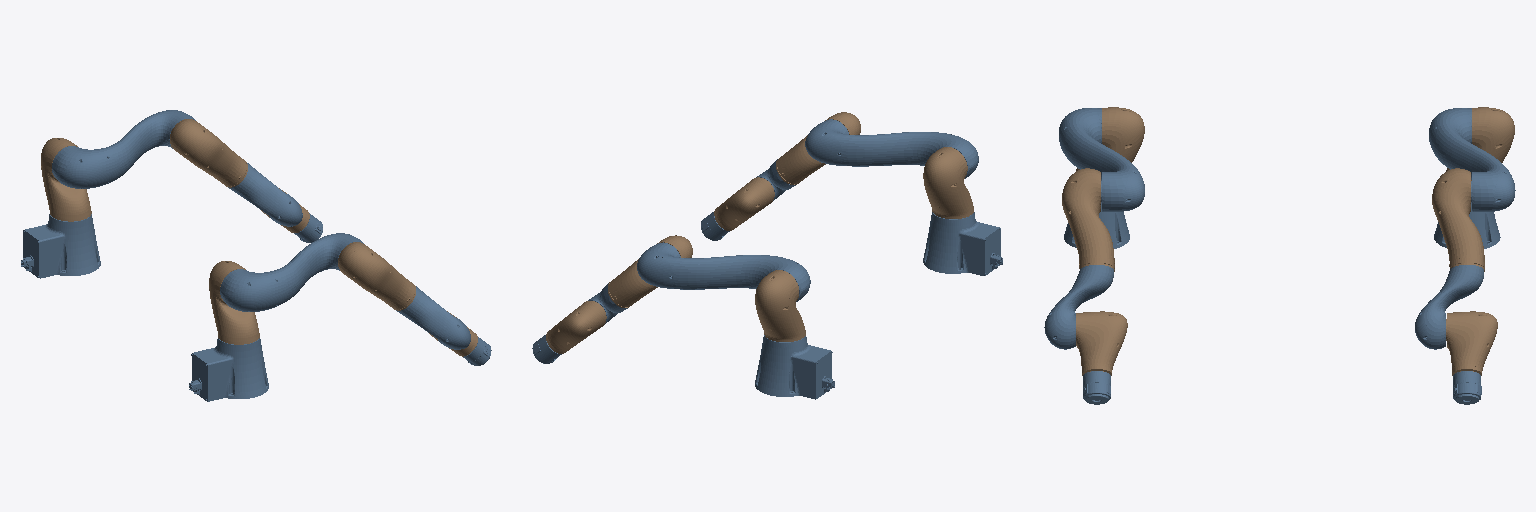
URDF robot description (hsr_co605):
<robot
  name="hsr_co605">

  <link name="world"/>
  <joint name="fixed" type="fixed">
    <parent link="world"/>
    <child link="base_link"/>
	<origin
      xyz="0 0 1"
      rpy="0 0 0" />
  </joint> 

  <joint name="fixed2" type="fixed">
    <parent link="world"/>
    <child link="base_link2"/>
	<origin
      xyz="0 1 1"
      rpy="0 0 0" />
  </joint> 



  <link
    name="base_link">
    <inertial>
      <origin
        xyz="-0.021912 3.5206E-07 0.072666"
        rpy="0 0 0" />
      <mass
        value="3.5836" />
      <inertia
        ixx="2.9136E-05"
        ixy="-2.1811E-09"
        ixz="-0.00010967"
        iyy="0.00060536"
        iyz="-4.5389E-10"
        izz="0.000578" />
    </inertial>
    <visual>
      <origin
        xyz="0 0 0"
        rpy="0 0 0" />
      <geometry>
        <mesh
          filename="package://hsr_description/meshes/co605/base_link.STL" />
      </geometry>
      <material
        name="">
        <color
          rgba="0.4 0.5 0.6 1" />
      </material>
    </visual>
    <collision>
      <origin
        xyz="0 0 0"
        rpy="0 0 0" />
      <geometry>
        <mesh
          filename="package://hsr_description/meshes/co605/base_link.STL" />
      </geometry>
    </collision>
  </link>


  <link
    name="base_link2">
    <inertial>
      <origin
        xyz="-0.021912 3.5206E-07 0.072666"
        rpy="0 0 0" />
      <mass
        value="3.5836" />
      <inertia
        ixx="2.9136E-05"
        ixy="-2.1811E-09"
        ixz="-0.00010967"
        iyy="0.00060536"
        iyz="-4.5389E-10"
        izz="0.000578" />
    </inertial>
    <visual>
      <origin
        xyz="0 0 0"
        rpy="0 0 0" />
      <geometry>
        <mesh
          filename="package://hsr_description/meshes/co605/base_link.STL" />
      </geometry>
      <material
        name="">
        <color
          rgba="0.4 0.5 0.6 1" />
      </material>
    </visual>
    <collision>
      <origin
        xyz="0 0 0"
        rpy="0 0 0" />
      <geometry>
        <mesh
          filename="package://hsr_description/meshes/co605/base_link.STL" />
      </geometry>
    </collision>
  </link>


<!--  -->
  <link
    name="link1">
    <inertial>
      <origin
        xyz="6.6053E-07 -0.041864 0.057461"
        rpy="0 0 0" />
      <mass
        value="2.2858" />
      <inertia
        ixx="0.0028736"
        ixy="-1.2977E-08"
        ixz="-1.1421E-08"
        iyy="0.0012558"
        iyz="-0.0014242"
        izz="0.001619" />
    </inertial>
    <visual>
      <origin
        xyz="0 0 0"
        rpy="0 0 0" />
      <geometry>
        <mesh
          filename="package://hsr_description/meshes/co605/link1.STL" />
      </geometry>
      <material
        name="">
        <color
          rgba="0.6 0.5 0.4 1" />
      </material>
    </visual>
    <collision>
      <origin
        xyz="0 0 0"
        rpy="0 0 0" />
      <geometry>
        <mesh
          filename="package://hsr_description/meshes/co605/link1.STL" />
      </geometry>
    </collision>
  </link>
  <joint
    name="joint_1"
    type="revolute">
    <origin
      xyz="0 0 0.3215"
      rpy="-3.1416 5.9903E-29 -1.4937E-16" />
    <parent
      link="base_link" />
    <child
      link="link1" />
    <axis
      xyz="0 0 -1" />
    <limit
      lower="-3.490658503988"
      upper="3.490658503988"
      effort="28"
      velocity="3.2" />
    <safety_controller
      soft_upper_limit="3.481931857728"
      soft_lower_limit="-3.481931857728"
      k_position="100"
      k_velocity="10" />
  </joint>
  <link
    name="link2">
    <inertial>
      <origin
        xyz="1.0568E-05 -0.1934 0.0072764"
        rpy="0 0 0" />
      <mass
        value="3.9796" />
      <inertia
        ixx="0.024928"
        ixy="-9.3143E-07"
        ixz="4.2908E-07"
        iyy="0.0049988"
        iyz="0.0099684"
        izz="0.019932" />
    </inertial>
    <visual>
      <origin
        xyz="0 0 0"
        rpy="0 0 0" />
      <geometry>
        <mesh
          filename="package://hsr_description/meshes/co605/link2.STL" />
      </geometry>
      <material
        name="">
        <color
          rgba="0.4 0.5 0.6 1" />
      </material>
    </visual>
    <collision>
      <origin
        xyz="0 0 0"
        rpy="0 0 0" />
      <geometry>
        <mesh
          filename="package://hsr_description/meshes/co605/link2.STL" />
      </geometry>
    </collision>
  </link>
  <joint
    name="joint_2"
    type="revolute">
    <origin
      xyz="0 0 0"
      rpy="1.5708 -1.5708 0" />
    <parent
      link="link1" />
    <child
      link="link2" />
    <axis
      xyz="0 0 1" />
    <limit
      lower="-2.268928027592"
      upper="1"
      effort="28"
      velocity="3.2" />
    <safety_controller
      soft_upper_limit="1"
      soft_lower_limit="-2.260201381332"
      k_position="100"
      k_velocity="10" />
  </joint>
  <link
    name="link3">
    <inertial>
      <origin
        xyz="-4.1646E-06 -0.084864 -0.023661"
        rpy="0 0 0" />
      <mass
        value="2.3017" />
      <inertia
        ixx="0.0050619"
        ixy="1.9871E-07"
        ixz="-9.377E-08"
        iyy="0.00080339"
        iyz="0.0014584"
        izz="0.0043189" />
    </inertial>
    <visual>
      <origin
        xyz="0 0 0"
        rpy="0 0 0" />
      <geometry>
        <mesh
          filename="package://hsr_description/meshes/co605/link3.STL" />
      </geometry>
      <material
        name="">
        <color
          rgba="0.6 0.5 0.4 1" />
      </material>
    </visual>
    <collision>
      <origin
        xyz="0 0 0"
        rpy="0 0 0" />
      <geometry>
        <mesh
          filename="package://hsr_description/meshes/co605/link3.STL" />
      </geometry>
    </collision>
  </link>
  <joint
    name="joint_3"
    type="revolute">
    <origin
      xyz="0 -0.4 0"
      rpy="-7.0321E-15 1.0327E-14 -1.5708" />
    <parent
      link="link2" />
    <child
      link="link3" />
    <axis
      xyz="0 0 1" />
    <limit
      lower="1"
      upper="3.665191429188"
      effort="28"
      velocity="3.2" />
    <safety_controller
      soft_upper_limit="3.656464782928"
      soft_lower_limit="0.008726646259"
      k_position="100"
      k_velocity="10" />
  </joint>
  <link
    name="link4">
    <inertial>
      <origin
        xyz="0.058545 -4.4729E-06 0.33207"
        rpy="0 0 0" />
      <mass
        value="1.1696" />
      <inertia
        ixx="0.00052342"
        ixy="-2.9755E-08"
        ixz="-0.0004967"
        iyy="0.00099547"
        iyz="-3.1299E-08"
        izz="0.00047263" />
    </inertial>
    <visual>
      <origin
        xyz="0 0 0"
        rpy="0 0 0" />
      <geometry>
        <mesh
          filename="package://hsr_description/meshes/co605/link4.STL" />
      </geometry>
      <material
        name="">
        <color
          rgba="0.4 0.5 0.6 1" />
      </material>
    </visual>
    <collision>
      <origin
        xyz="0 0 0"
        rpy="0 0 0" />
      <geometry>
        <mesh
          filename="package://hsr_description/meshes/co605/link4.STL" />
      </geometry>
    </collision>
  </link>
  <joint
    name="joint_4"
    type="revolute">
    <origin
      xyz="0 0 0"
      rpy="1.5708 1.5708 0" />
    <parent
      link="link3" />
    <child
      link="link4" />
    <axis
      xyz="0 0 1" />
    <limit
      lower="-3.0"
      upper="3.0"
      effort="28"
      velocity="3.2" />
    <safety_controller
      soft_upper_limit="3.0"
      soft_lower_limit="-3.0"
      k_position="100"
      k_velocity="10" />
  </joint>
  <link
    name="link5">
    <inertial>
      <origin
        xyz="-1.4755E-07 -0.034466 0.0044663"
        rpy="0 0 0" />
      <mass
        value="1.4115" />
      <inertia
        ixx="0.0015897"
        ixy="-6.782E-09"
        ixz="-1.3146E-08"
        iyy="0.0006121"
        iyz="-0.00040625"
        izz="0.00097818" />
    </inertial>
    <visual>
      <origin
        xyz="0 0 0"
        rpy="0 0 0" />
      <geometry>
        <mesh
          filename="package://hsr_description/meshes/co605/link5.STL" />
      </geometry>
      <material
        name="">
        <color
          rgba="0.6 0.5 0.4 1" />
      </material>
    </visual>
    <collision>
      <origin
        xyz="0 0 0"
        rpy="0 0 0" />
      <geometry>
        <mesh
          filename="package://hsr_description/meshes/co605/link5.STL" />
      </geometry>
    </collision>
  </link>
  <joint
    name="joint_5"
    type="revolute">
    <origin
      xyz="0 0 0.4"
      rpy="-1.5708 -3.2281E-16 1.5708" />
    <parent
      link="link4" />
    <child
      link="link5" />
    <axis
      xyz="0 0 1" />
    <limit
      lower="-2.268928027592"
      upper="2.268928027592"
      effort="28"
      velocity="3.2" />
    <safety_controller
      soft_upper_limit="2.260201381332"
      soft_lower_limit="-2.260201381332"
      k_position="100"
      k_velocity="10" />
  </joint>
  <link
    name="link6">
    <inertial>
      <origin
        xyz="-9.6295E-05 0.00016669 -0.035518"
        rpy="0 0 0" />
      <mass
        value="0.30888" />
      <inertia
        ixx="8.8278E-05"
        ixy="-1.1971E-06"
        ixz="3.4899E-07"
        iyy="8.9661E-05"
        iyz="-6.0395E-07"
        izz="5.5013E-06" />
    </inertial>
    <visual>
      <origin
        xyz="0 0 0"
        rpy="0 0 0" />
      <geometry>
        <mesh
          filename="package://hsr_description/meshes/co605/link6.STL" />
      </geometry>
      <material
        name="">
        <color
          rgba="0.4 0.5 0.6 1" />
      </material>
    </visual>
    <collision>
      <origin
        xyz="0 0 0"
        rpy="0 0 0" />
      <geometry>
        <mesh
          filename="package://hsr_description/meshes/co605/link6.STL" />
      </geometry>
    </collision>
  </link>
  <joint
    name="joint_6"
    type="revolute">
    <origin
      xyz="0 -0.205 0"
      rpy="-1.5708 2.7756E-17 -3.1416" />
    <parent
      link="link5" />
    <child
      link="link6" />
    <axis
      xyz="0 0 1" />
    <limit
      lower="-5.1"
      upper="5.1"
      effort="28"
      velocity="3.2" />
    <safety_controller
      soft_upper_limit="5.1"
      soft_lower_limit="-5.1"
      k_position="100"
      k_velocity="10" />
  </joint>

  
<!--    -->
  <link
    name="R_link1">
    <inertial>
      <origin
        xyz="6.6053E-07 -0.041864 0.057461"
        rpy="0 0 0" />
      <mass
        value="2.2858" />
      <inertia
        ixx="0.0028736"
        ixy="-1.2977E-08"
        ixz="-1.1421E-08"
        iyy="0.0012558"
        iyz="-0.0014242"
        izz="0.001619" />
    </inertial>
    <visual>
      <origin
        xyz="0 0 0"
        rpy="0 0 0" />
      <geometry>
        <mesh
          filename="package://hsr_description/meshes/co605/link1.STL" />
      </geometry>
      <material
        name="">
        <color
          rgba="0.6 0.5 0.4 1" />
      </material>
    </visual>
    <collision>
      <origin
        xyz="0 0 0"
        rpy="0 0 0" />
      <geometry>
        <mesh
          filename="package://hsr_description/meshes/co605/link1.STL" />
      </geometry>
    </collision>
  </link>
  <joint
    name="R_joint_1"
    type="revolute">
    <origin
      xyz="0 0 0.3215"
      rpy="-3.1416 5.9903E-29 -1.4937E-16" />
    <parent
      link="base_link2" />
    <child
      link="R_link1" />
    <axis
      xyz="0 0 -1" />
    <limit
      lower="-3.490658503988"
      upper="3.490658503988"
      effort="28"
      velocity="3.2" />
    <safety_controller
      soft_upper_limit="3.481931857728"
      soft_lower_limit="-3.481931857728"
      k_position="100"
      k_velocity="10" />
  </joint>
  <link
    name="R_link2">
    <inertial>
      <origin
        xyz="1.0568E-05 -0.1934 0.0072764"
        rpy="0 0 0" />
      <mass
        value="3.9796" />
      <inertia
        ixx="0.024928"
        ixy="-9.3143E-07"
        ixz="4.2908E-07"
        iyy="0.0049988"
        iyz="0.0099684"
        izz="0.019932" />
    </inertial>
    <visual>
      <origin
        xyz="0 0 0"
        rpy="0 0 0" />
      <geometry>
        <mesh
          filename="package://hsr_description/meshes/co605/link2.STL" />
      </geometry>
      <material
        name="">
        <color
          rgba="0.4 0.5 0.6 1" />
      </material>
    </visual>
    <collision>
      <origin
        xyz="0 0 0"
        rpy="0 0 0" />
      <geometry>
        <mesh
          filename="package://hsr_description/meshes/co605/link2.STL" />
      </geometry>
    </collision>
  </link>
  <joint
    name="R_joint_2"
    type="revolute">
    <origin
      xyz="0 0 0"
      rpy="1.5708 -1.5708 0" />
    <parent
      link="R_link1" />
    <child
      link="R_link2" />
    <axis
      xyz="0 0 1" />
    <limit
      lower="-2.268928027592"
      upper="1"
      effort="28"
      velocity="3.2" />
    <safety_controller
      soft_upper_limit="1"
      soft_lower_limit="-2.260201381332"
      k_position="100"
      k_velocity="10" />
  </joint>
  <link
    name="R_link3">
    <inertial>
      <origin
        xyz="-4.1646E-06 -0.084864 -0.023661"
        rpy="0 0 0" />
      <mass
        value="2.3017" />
      <inertia
        ixx="0.0050619"
        ixy="1.9871E-07"
        ixz="-9.377E-08"
        iyy="0.00080339"
        iyz="0.0014584"
        izz="0.0043189" />
    </inertial>
    <visual>
      <origin
        xyz="0 0 0"
        rpy="0 0 0" />
      <geometry>
        <mesh
          filename="package://hsr_description/meshes/co605/link3.STL" />
      </geometry>
      <material
        name="">
        <color
          rgba="0.6 0.5 0.4 1" />
      </material>
    </visual>
    <collision>
      <origin
        xyz="0 0 0"
        rpy="0 0 0" />
      <geometry>
        <mesh
          filename="package://hsr_description/meshes/co605/link3.STL" />
      </geometry>
    </collision>
  </link>
  <joint
    name="R_joint_3"
    type="revolute">
    <origin
      xyz="0 -0.4 0"
      rpy="-7.0321E-15 1.0327E-14 -1.5708" />
    <parent
      link="R_link2" />
    <child
      link="R_link3" />
    <axis
      xyz="0 0 1" />
    <limit
      lower="1"
      upper="3.665191429188"
      effort="28"
      velocity="3.2" />
    <safety_controller
      soft_upper_limit="3.656464782928"
      soft_lower_limit="0.008726646259"
      k_position="100"
      k_velocity="10" />
  </joint>
  <link
    name="R_link4">
    <inertial>
      <origin
        xyz="0.058545 -4.4729E-06 0.33207"
        rpy="0 0 0" />
      <mass
        value="1.1696" />
      <inertia
        ixx="0.00052342"
        ixy="-2.9755E-08"
        ixz="-0.0004967"
        iyy="0.00099547"
        iyz="-3.1299E-08"
        izz="0.00047263" />
    </inertial>
    <visual>
      <origin
        xyz="0 0 0"
        rpy="0 0 0" />
      <geometry>
        <mesh
          filename="package://hsr_description/meshes/co605/link4.STL" />
      </geometry>
      <material
        name="">
        <color
          rgba="0.4 0.5 0.6 1" />
      </material>
    </visual>
    <collision>
      <origin
        xyz="0 0 0"
        rpy="0 0 0" />
      <geometry>
        <mesh
          filename="package://hsr_description/meshes/co605/link4.STL" />
      </geometry>
    </collision>
  </link>
  <joint
    name="R_joint_4"
    type="revolute">
    <origin
      xyz="0 0 0"
      rpy="1.5708 1.5708 0" />
    <parent
      link="R_link3" />
    <child
      link="R_link4" />
    <axis
      xyz="0 0 1" />
    <limit
      lower="-3.0"
      upper="3.0"
      effort="28"
      velocity="3.2" />
    <safety_controller
      soft_upper_limit="3.0"
      soft_lower_limit="-3.0"
      k_position="100"
      k_velocity="10" />
  </joint>
  <link
    name="R_link5">
    <inertial>
      <origin
        xyz="-1.4755E-07 -0.034466 0.0044663"
        rpy="0 0 0" />
      <mass
        value="1.4115" />
      <inertia
        ixx="0.0015897"
        ixy="-6.782E-09"
        ixz="-1.3146E-08"
        iyy="0.0006121"
        iyz="-0.00040625"
        izz="0.00097818" />
    </inertial>
    <visual>
      <origin
        xyz="0 0 0"
        rpy="0 0 0" />
      <geometry>
        <mesh
          filename="package://hsr_description/meshes/co605/link5.STL" />
      </geometry>
      <material
        name="">
        <color
          rgba="0.6 0.5 0.4 1" />
      </material>
    </visual>
    <collision>
      <origin
        xyz="0 0 0"
        rpy="0 0 0" />
      <geometry>
        <mesh
          filename="package://hsr_description/meshes/co605/link5.STL" />
      </geometry>
    </collision>
  </link>
  <joint
    name="R_joint_5"
    type="revolute">
    <origin
      xyz="0 0 0.4"
      rpy="-1.5708 -3.2281E-16 1.5708" />
    <parent
      link="R_link4" />
    <child
      link="R_link5" />
    <axis
      xyz="0 0 1" />
    <limit
      lower="-2.268928027592"
      upper="2.268928027592"
      effort="28"
      velocity="3.2" />
    <safety_controller
      soft_upper_limit="2.260201381332"
      soft_lower_limit="-2.260201381332"
      k_position="100"
      k_velocity="10" />
  </joint>
  <link
    name="R_link6">
    <inertial>
      <origin
        xyz="-9.6295E-05 0.00016669 -0.035518"
        rpy="0 0 0" />
      <mass
        value="0.30888" />
      <inertia
        ixx="8.8278E-05"
        ixy="-1.1971E-06"
        ixz="3.4899E-07"
        iyy="8.9661E-05"
        iyz="-6.0395E-07"
        izz="5.5013E-06" />
    </inertial>
    <visual>
      <origin
        xyz="0 0 0"
        rpy="0 0 0" />
      <geometry>
        <mesh
          filename="package://hsr_description/meshes/co605/link6.STL" />
      </geometry>
      <material
        name="">
        <color
          rgba="0.4 0.5 0.6 1" />
      </material>
    </visual>
    <collision>
      <origin
        xyz="0 0 0"
        rpy="0 0 0" />
      <geometry>
        <mesh
          filename="package://hsr_description/meshes/co605/link6.STL" />
      </geometry>
    </collision>
  </link>
  <joint
    name="R_joint_6"
    type="revolute">
    <origin
      xyz="0 -0.205 0"
      rpy="-1.5708 2.7756E-17 -3.1416" />
    <parent
      link="R_link5" />
    <child
      link="R_link6" />
    <axis
      xyz="0 0 1" />
    <limit
      lower="-5.1"
      upper="5.1"
      effort="28"
      velocity="3.2" />
    <safety_controller
      soft_upper_limit="5.1"
      soft_lower_limit="-5.1"
      k_position="100"
      k_velocity="10" />
  </joint>



</robot>

--- Facts derived from the render (not from the file) ---
Views: 3 orthographic renders of the robot side by side, from view 1: azimuth 30°, elevation 25°; view 2: azimuth 150°, elevation 25°; view 3: azimuth 270°, elevation 25°.
Model hsr_co605 with 15 links and 14 joints (12 revolute, 2 fixed), rooted at world, posed all joints at 0 but 2 set to mid-range because 0 is outside their limits (joint_3 = 2.33, R_joint_3 = 2.33).
Visible links, largest first — view 1: R_link2, link2, base_link2, base_link, R_link3, link3, link1, R_link1, link4, R_link4; view 2: R_link2, link2, base_link, base_link2, link1, R_link1, link5, R_link5, link3, R_link3; view 3: R_link2, link2, link3, R_link3, link5, R_link5, link4, R_link4, R_link1, link1, base_link, base_link2 (+2 smaller).
Link boxes in pixels (bbox=[...]): R_link2: bbox=[52, 110, 195, 188]; link2: bbox=[220, 233, 363, 311]; base_link2: bbox=[21, 214, 100, 278]; base_link: bbox=[189, 338, 268, 401]; R_link3: bbox=[170, 119, 247, 187]; link3: bbox=[338, 242, 415, 310]; link1: bbox=[209, 261, 259, 344]; R_link1: bbox=[41, 138, 91, 221]; link4: bbox=[396, 286, 470, 349]; R_link4: bbox=[228, 163, 302, 226]; R_link2: bbox=[637, 242, 810, 301]; link2: bbox=[805, 119, 978, 178]; base_link: bbox=[923, 212, 1002, 275]; base_link2: bbox=[755, 335, 834, 399]; link1: bbox=[923, 147, 973, 218]; R_link1: bbox=[755, 270, 805, 341]; link5: bbox=[714, 177, 774, 230]; R_link5: bbox=[546, 301, 606, 353]; link3: bbox=[776, 112, 860, 184]; R_link3: bbox=[608, 235, 692, 307]; R_link2: bbox=[1429, 108, 1515, 211]; link2: bbox=[1059, 108, 1144, 211]; link3: bbox=[1062, 168, 1114, 271]; R_link3: bbox=[1432, 168, 1484, 271]; link5: bbox=[1076, 311, 1127, 375]; R_link5: bbox=[1446, 311, 1497, 375]; link4: bbox=[1044, 265, 1113, 349]; R_link4: bbox=[1415, 265, 1483, 349]; R_link1: bbox=[1446, 107, 1514, 180]; link1: bbox=[1076, 107, 1144, 170]; base_link: bbox=[1064, 203, 1129, 248]; base_link2: bbox=[1434, 203, 1500, 248].
Bounding box of the posed robot: 1.02 × 1.27 × 0.5003 m (x, y, z).
Meshes: 7 distinct files referenced, 14 mesh visuals loaded (7 binary STL).